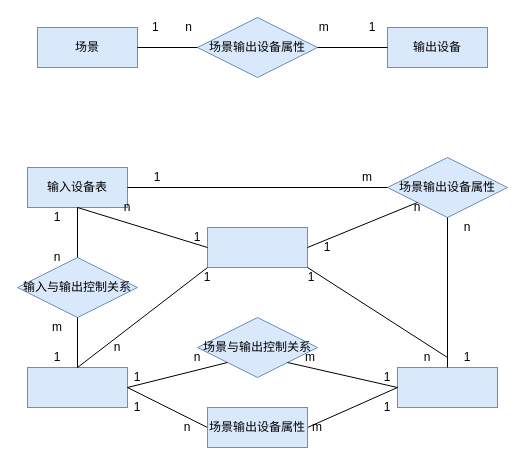
Some shapes in this 525 by 465 pixel diagram are drawn without their labels. The centre of each missing label's shape, as x and y in pixels:
"场景表" goes at point (447, 387).
"客控模板表" goes at point (257, 247).
"输出设备表" goes at point (77, 387).
